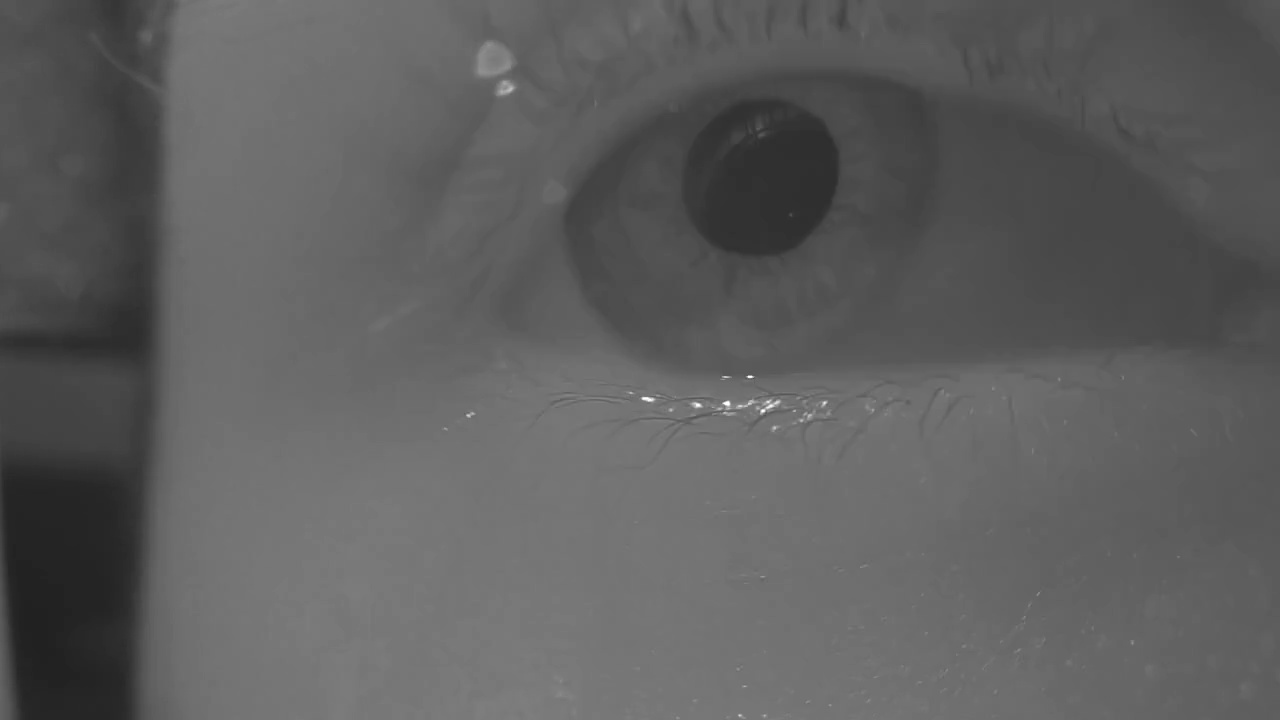pupil: (682, 99, 839, 255)
